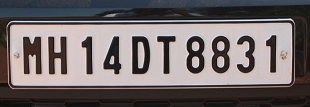1: (80, 34, 97, 76), (264, 35, 280, 76)
3: (235, 35, 256, 76)
4: (102, 36, 124, 76)
8: (185, 35, 207, 74), (211, 35, 232, 74)
D: (130, 35, 152, 76)
H: (47, 34, 69, 77)
M: (20, 35, 45, 76)
T: (156, 35, 178, 75)
